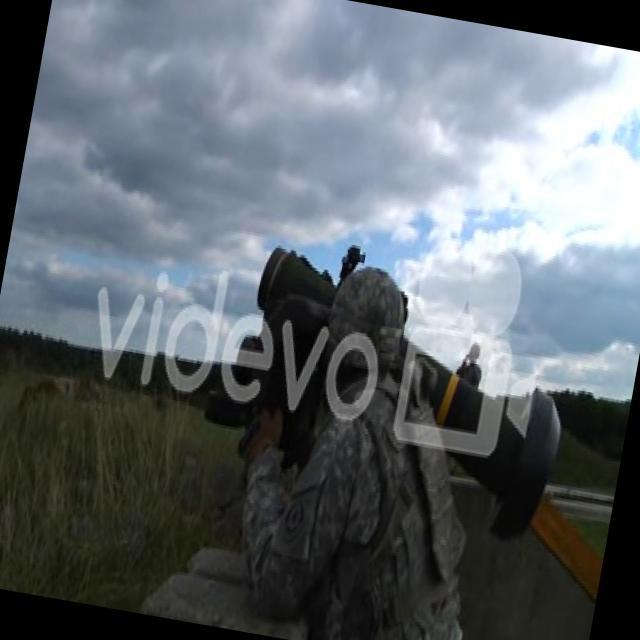rocket: (374, 334, 572, 547)
